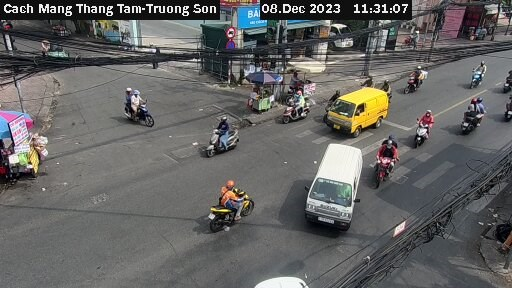car: (302, 139, 370, 232), (324, 87, 392, 136)
motorbike: (114, 88, 171, 131), (200, 186, 251, 230), (195, 115, 244, 154), (372, 142, 406, 190), (281, 90, 319, 128), (452, 93, 486, 133), (401, 64, 435, 102), (410, 111, 439, 152), (464, 58, 493, 87), (500, 69, 512, 92), (501, 96, 512, 120)
